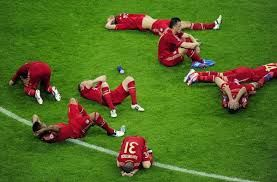fall: (185, 52, 276, 93)
